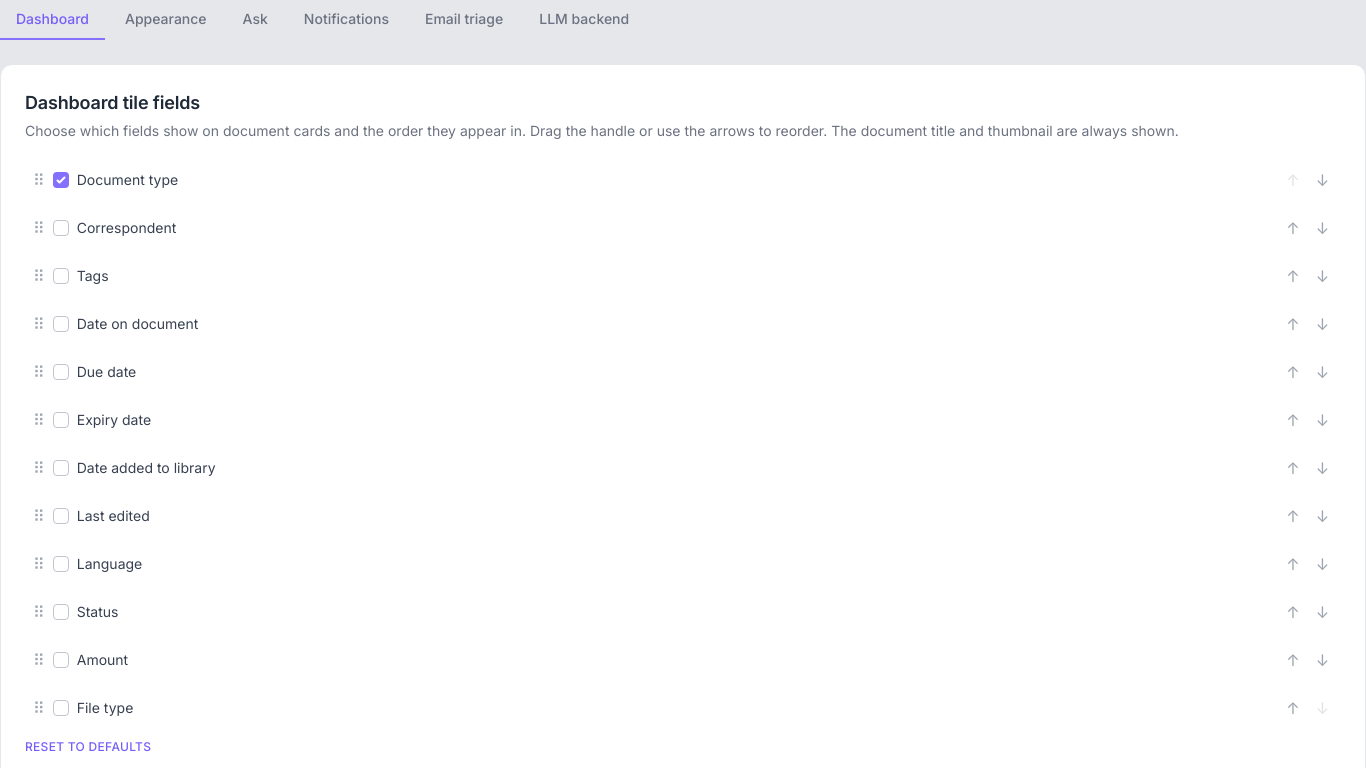
Test case: SettingsView › reverts the tone and shows an error when the appearance save fails
Click the tab with test id "tab-appearance-btn".
click(166, 20)  # box [109,0,223,40]
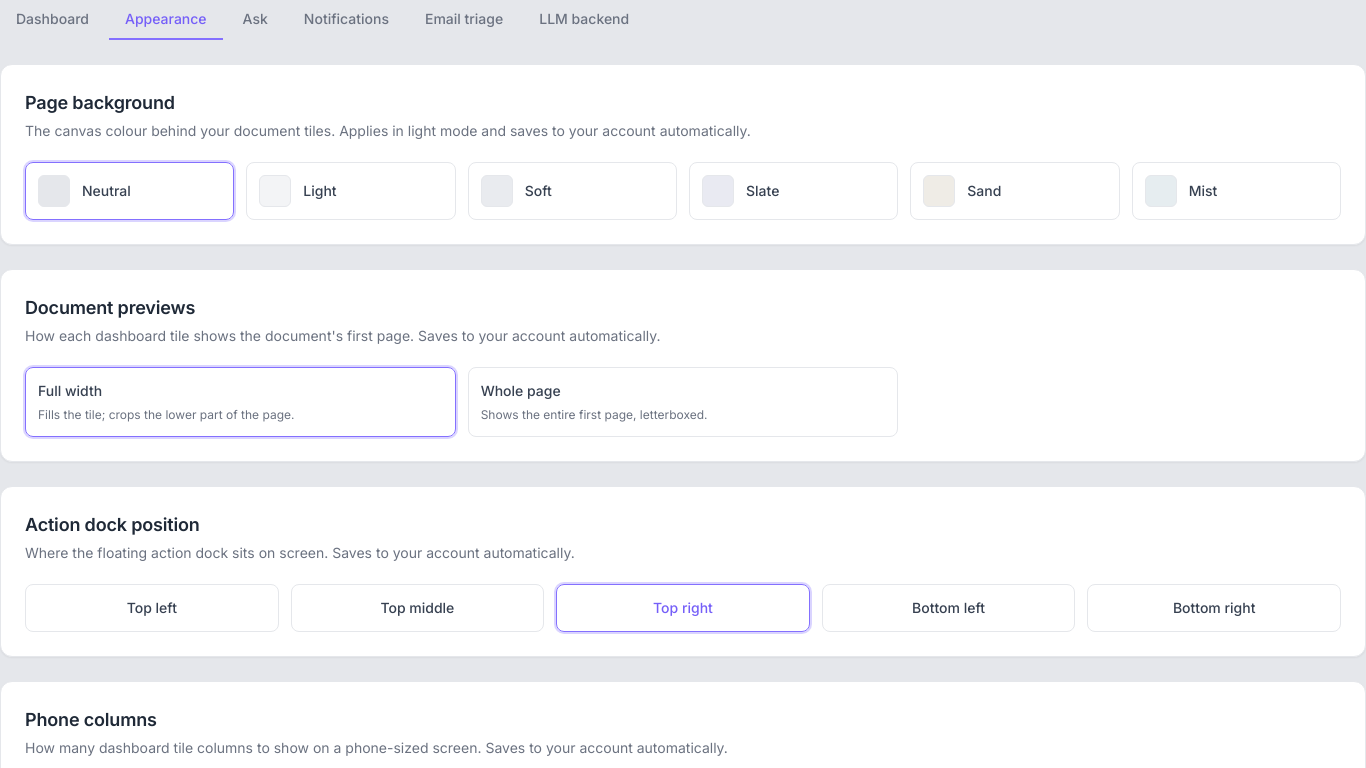
Click the radio button with test id "tone-mist".
click(1236, 191)  # box [1132,162,1341,220]
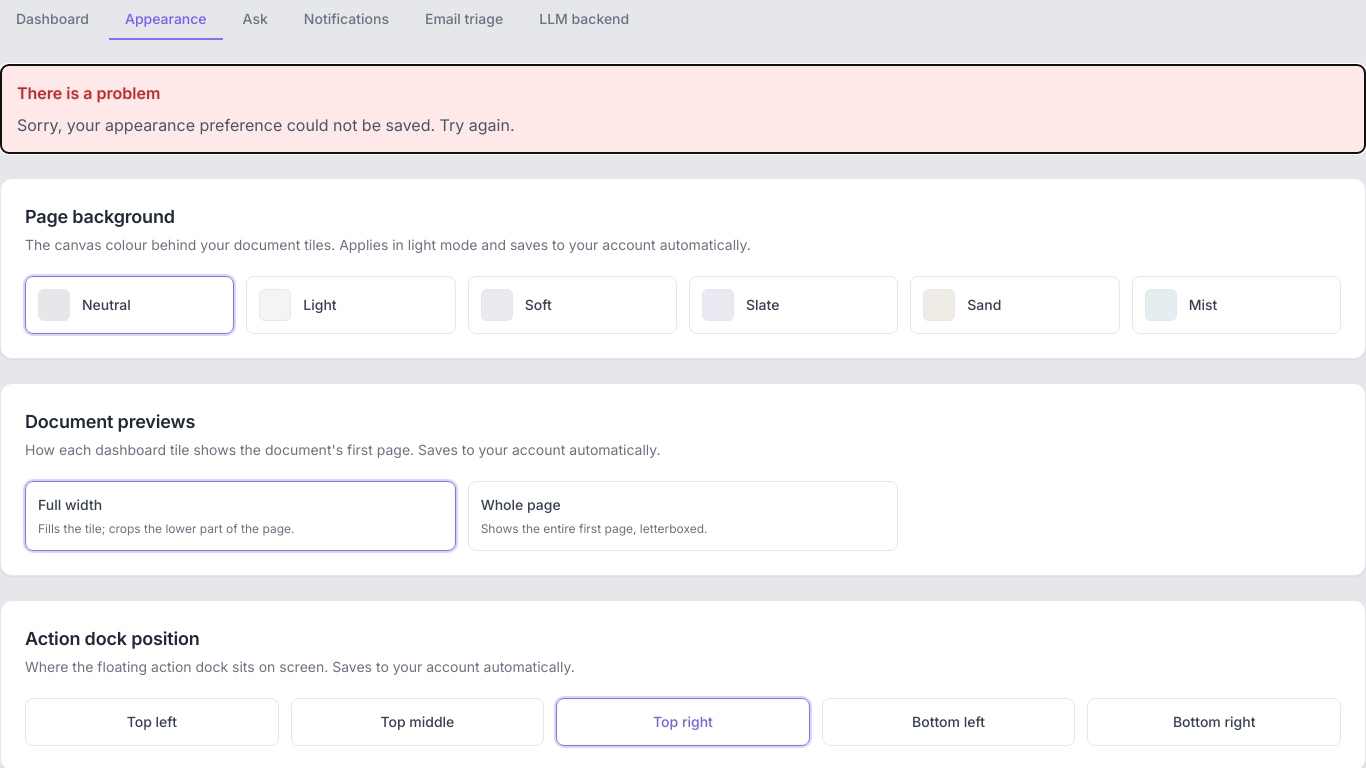
Check: the message with test id "appearance-error" is shown, box [0,64,1365,154]
